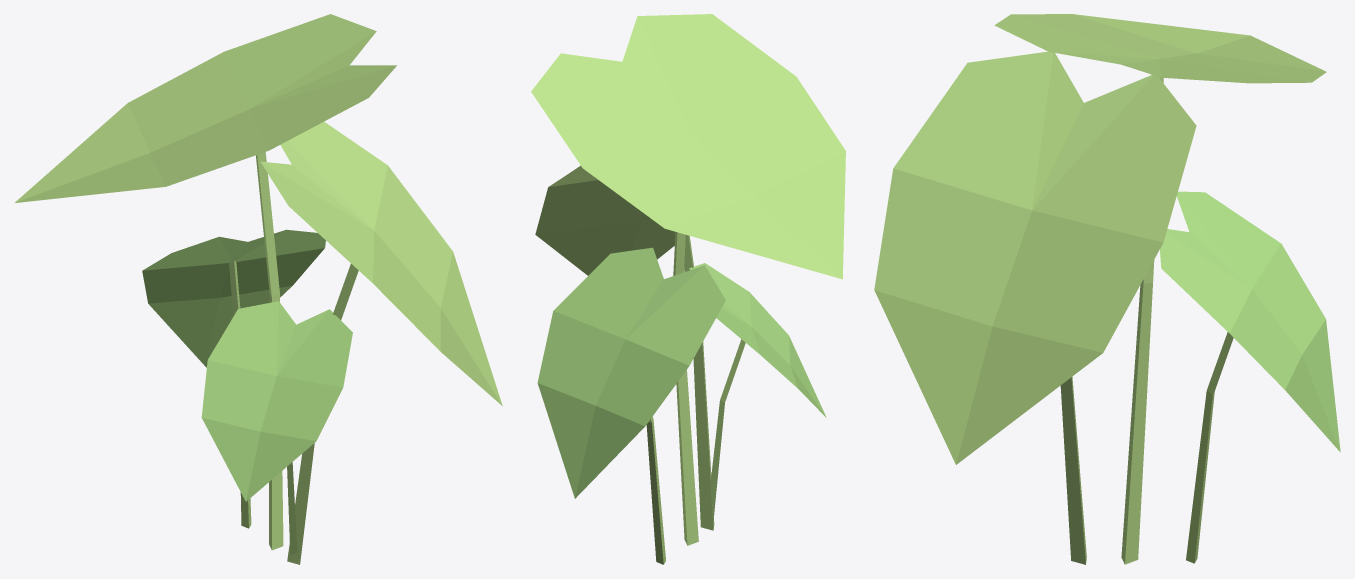
File: Plant_d_OneS_07.fbx
3 views of the same model, side by side, from view 1: azimuth 30°, elevation 25°; view 2: azimuth 150°, elevation 25°; view 3: azimuth 270°, elevation 25° (orthographic). The views are drawn at different scales.
Parts seen in each view (by area): view 1: Plant_d_OneS_07; view 2: Plant_d_OneS_07; view 3: Plant_d_OneS_07.
Boxes of the visible parts, box(x1,y1,x2,y2) form: Plant_d_OneS_07: box(15, 14, 502, 564); Plant_d_OneS_07: box(531, 14, 845, 564); Plant_d_OneS_07: box(874, 14, 1340, 564).
Size of the model in its own units: 0.6562 by 0.8117 by 0.6147.
